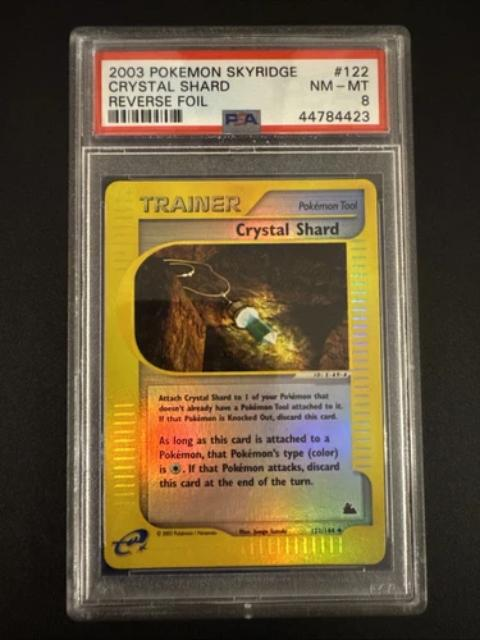Card: (98, 174, 392, 575)
Name: (229, 216, 347, 243)
